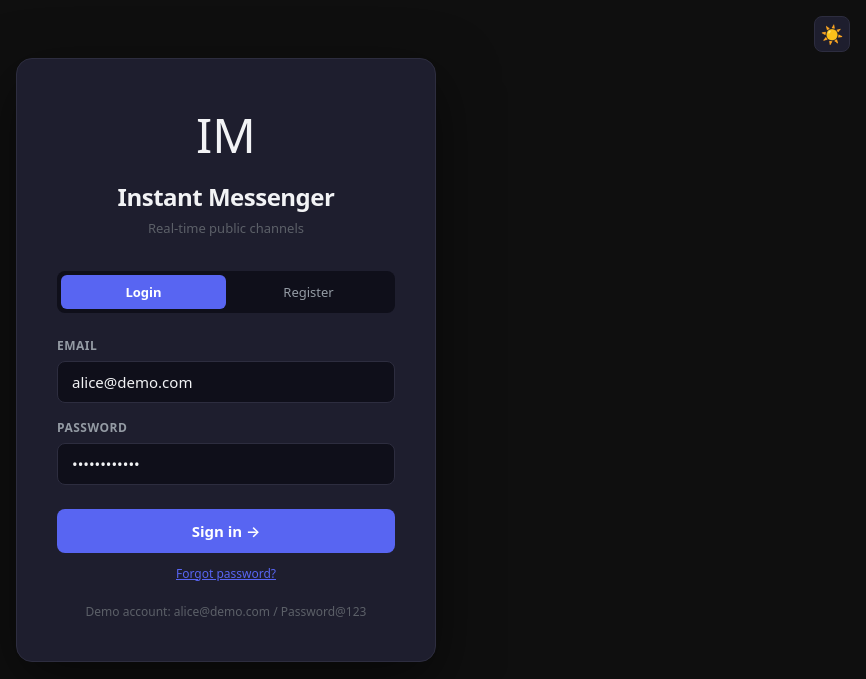
Test: LoginPage › clicking forgot password link shows ForgotPasswordPage
The image size is (866, 679).
Step 1. Click the button with test id "forgot-password-link" → {"x": 226, "y": 573}, box [176,565,276,582]
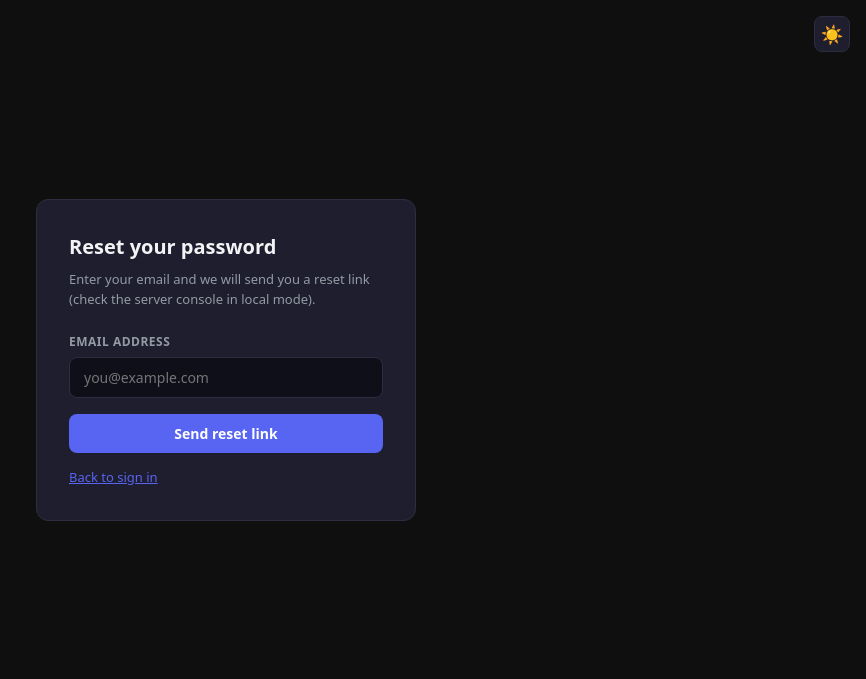
Now the text "Reset your password" is shown, box [69,233,276,260]
